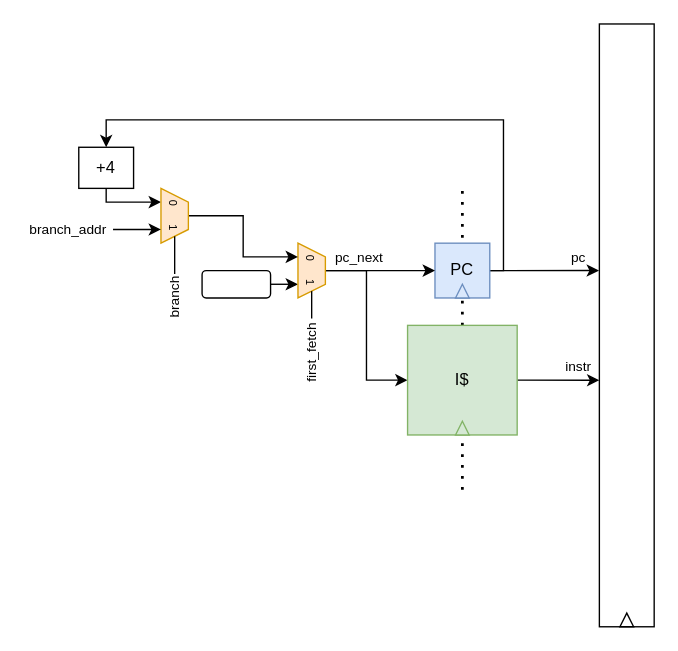
This 678x651 diagram has some shape labels left out. The shapes that lost their labels are listed below. From the top down, each one's centre as x and y in pixels, then its label:
(236,283): reset_addr
(626,325): IF-ID
